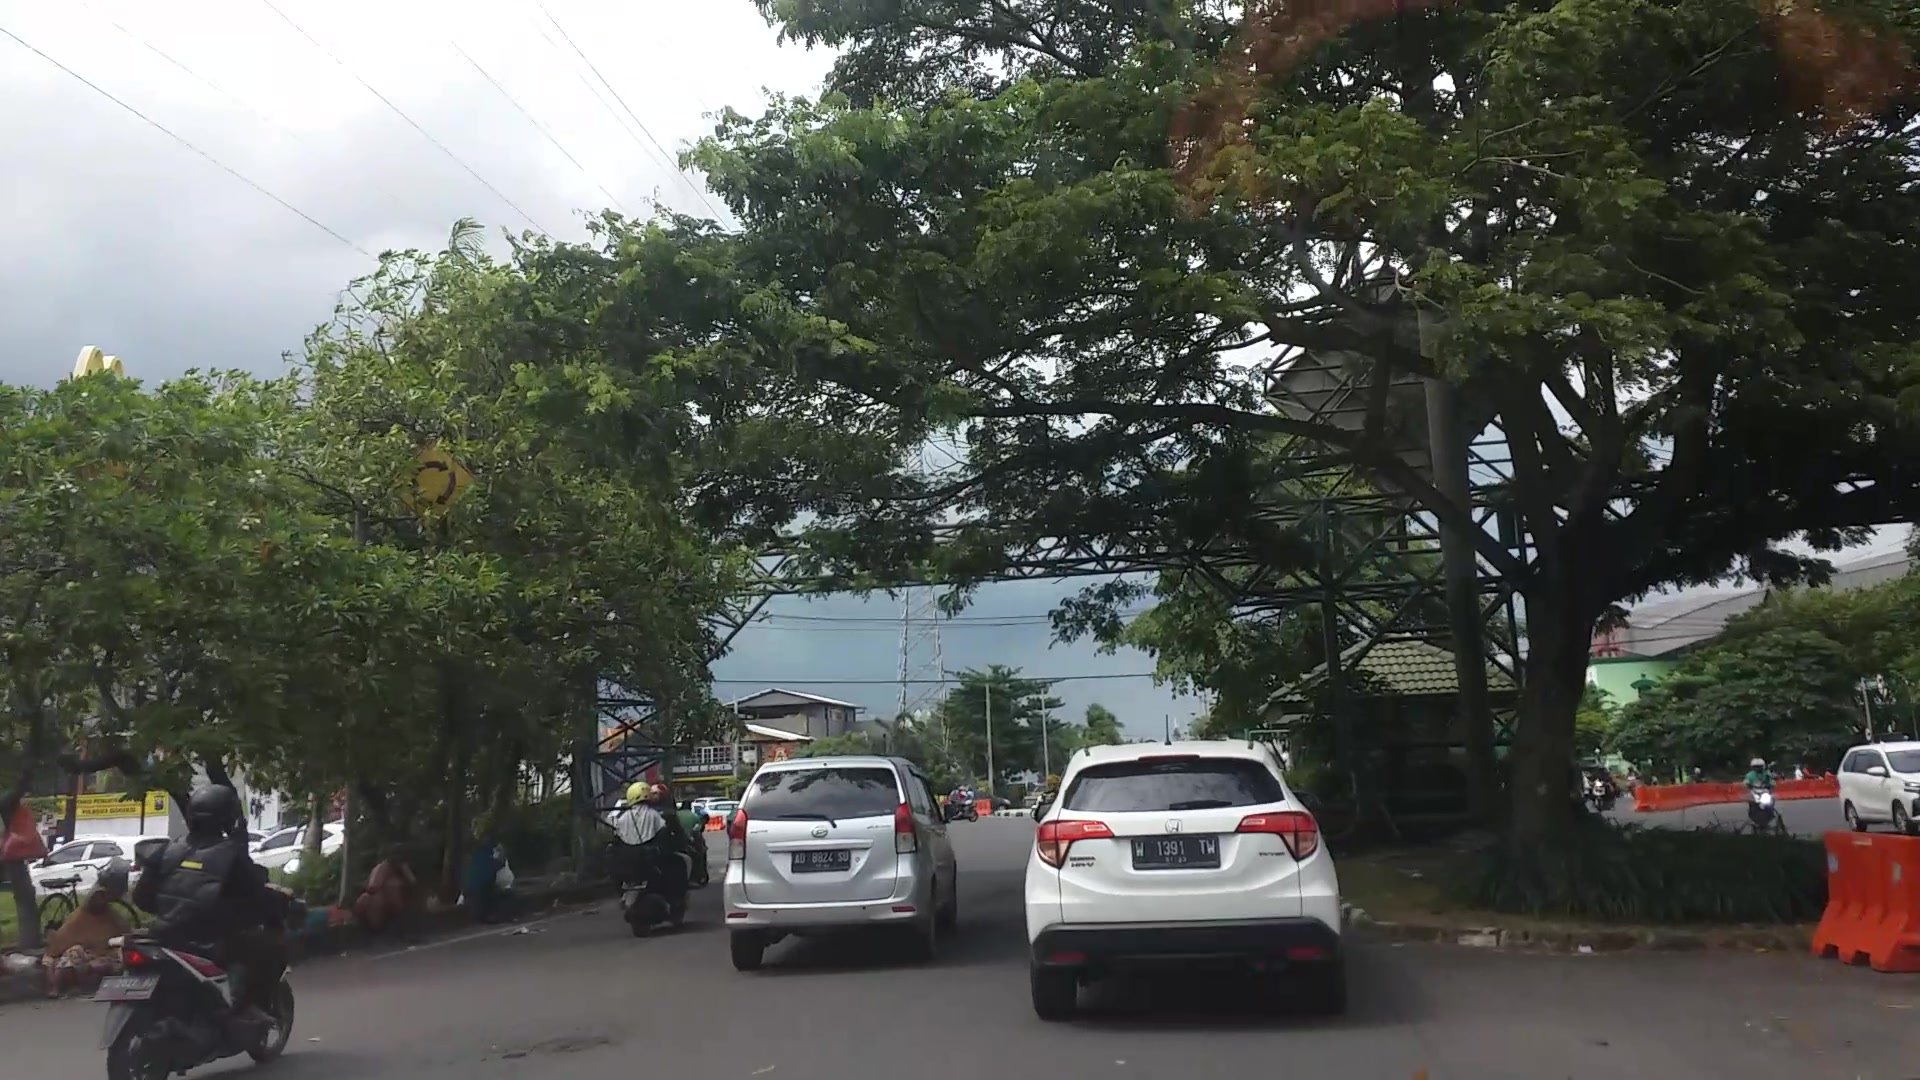plate_positive: (1131, 835, 1221, 869), (793, 849, 851, 872)
